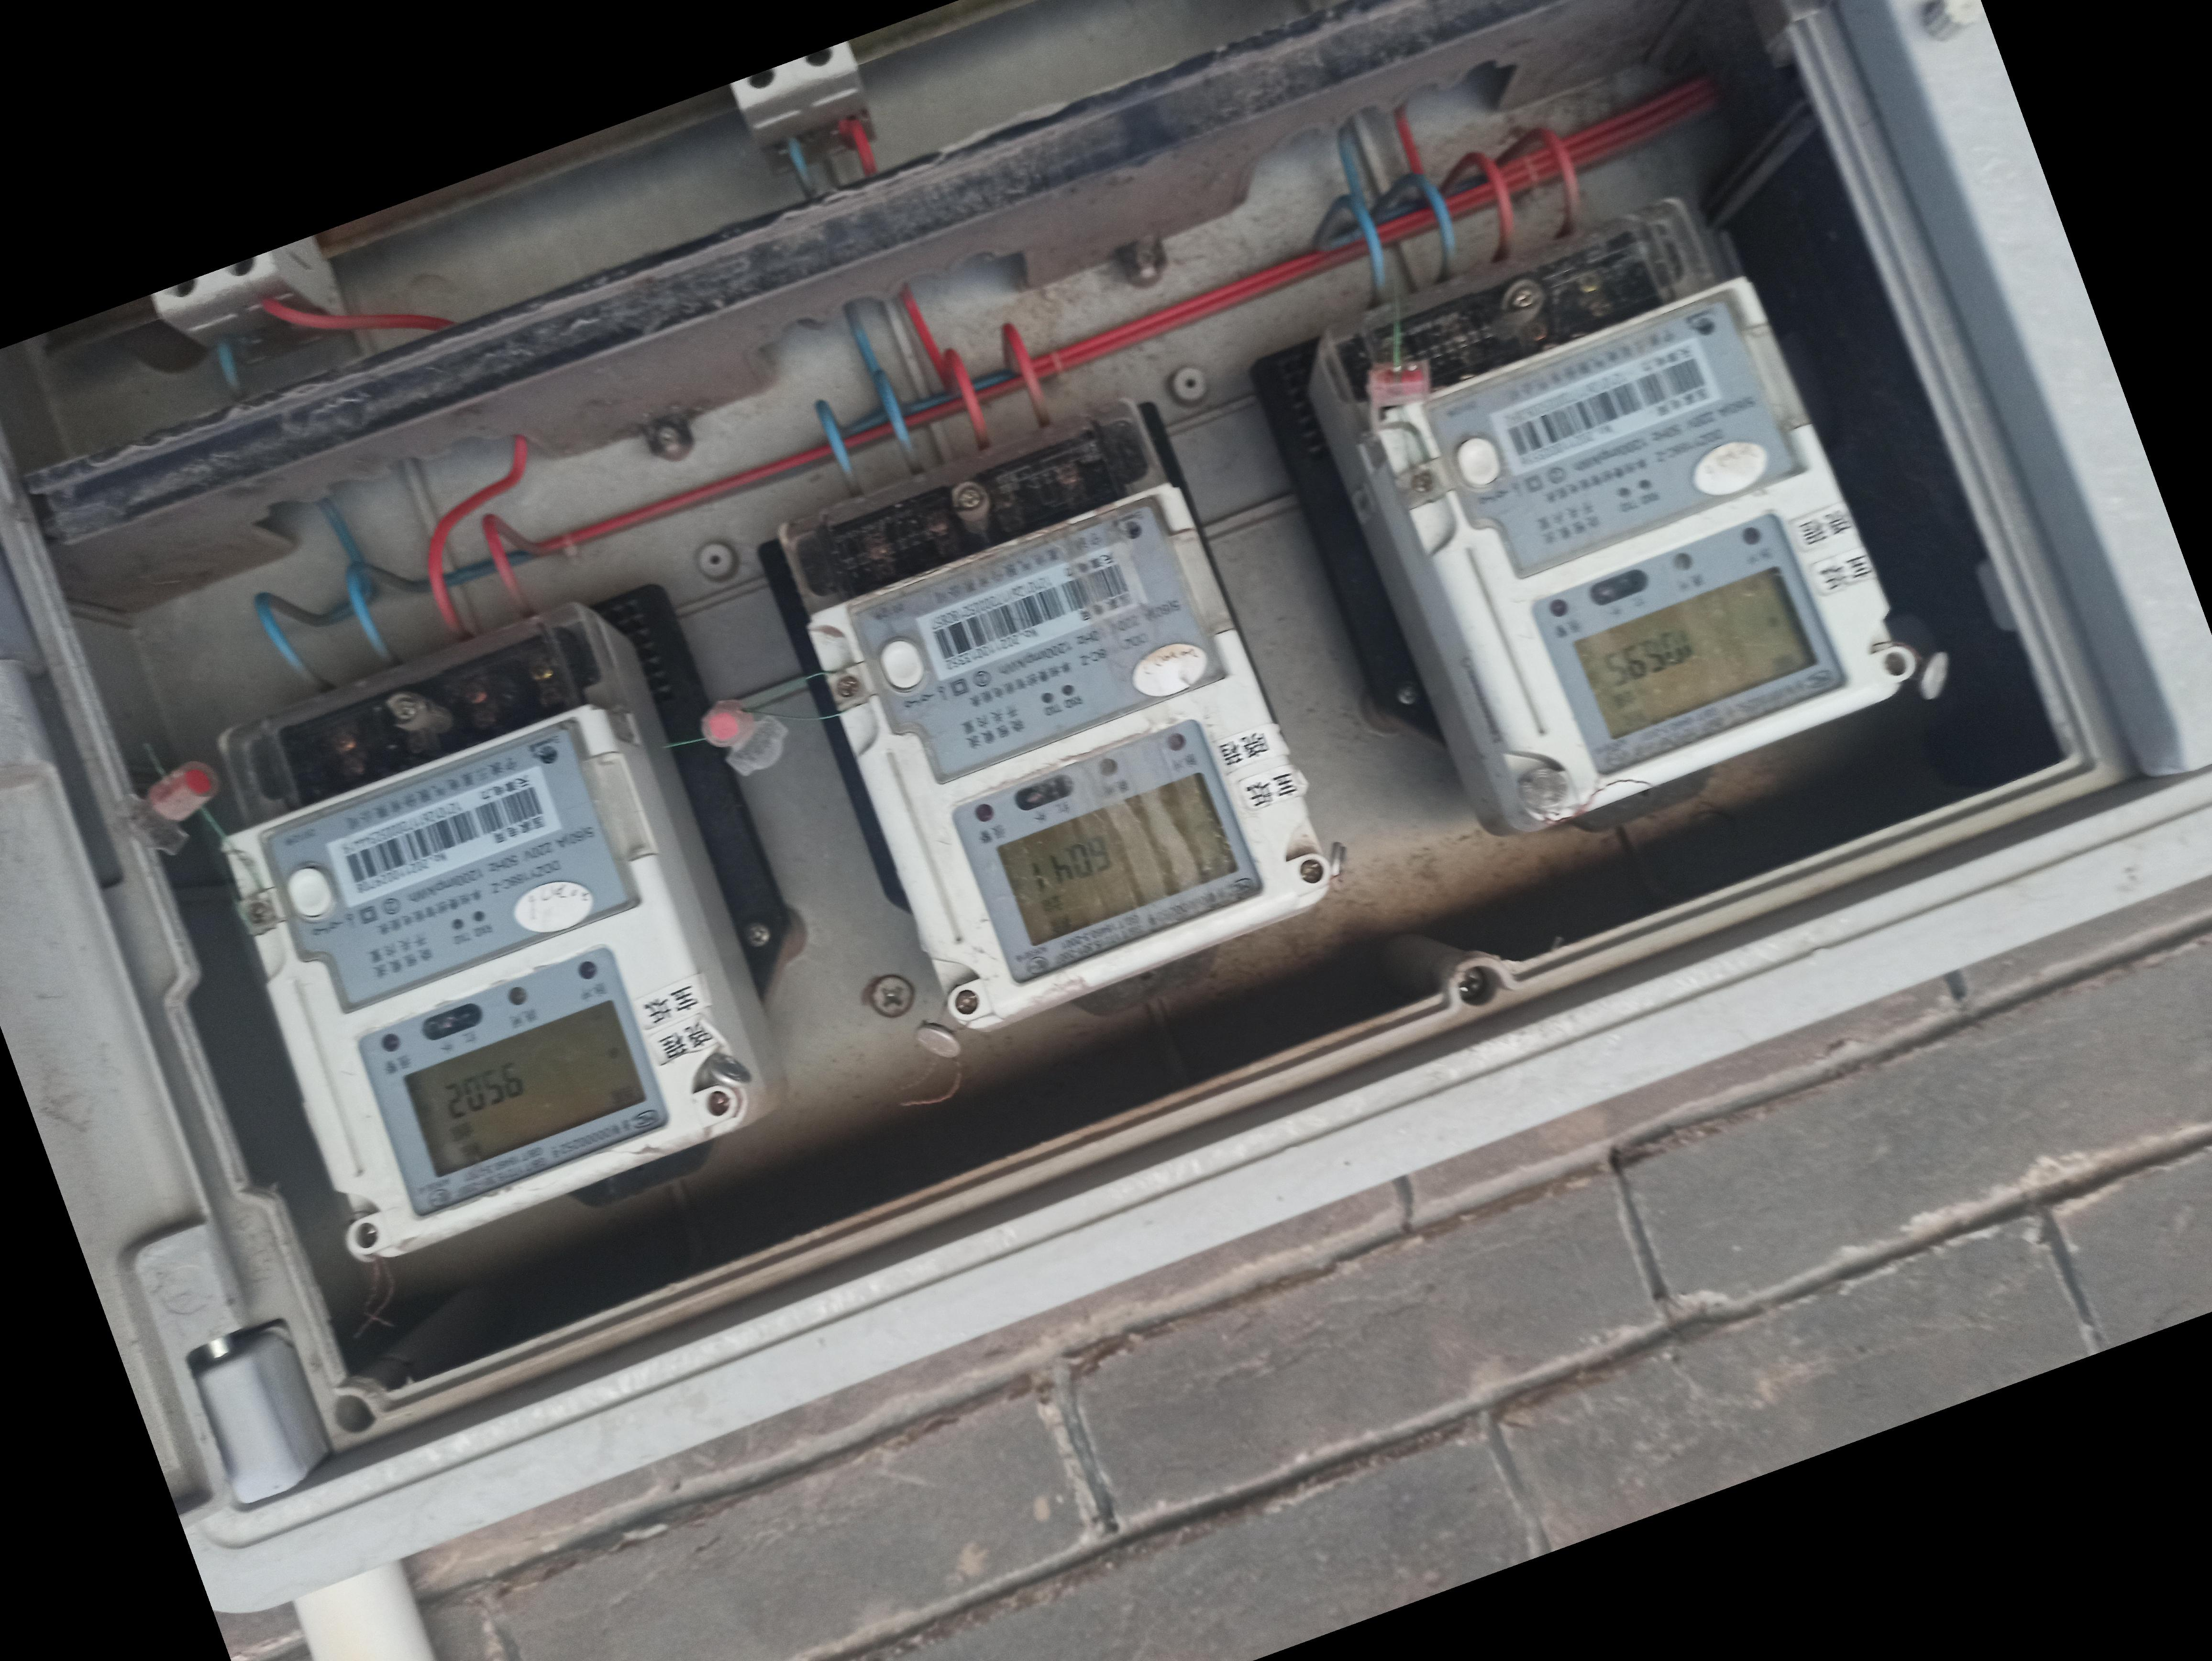digital: (225, 708, 729, 1244), (1366, 281, 1889, 794), (808, 482, 1317, 995)
